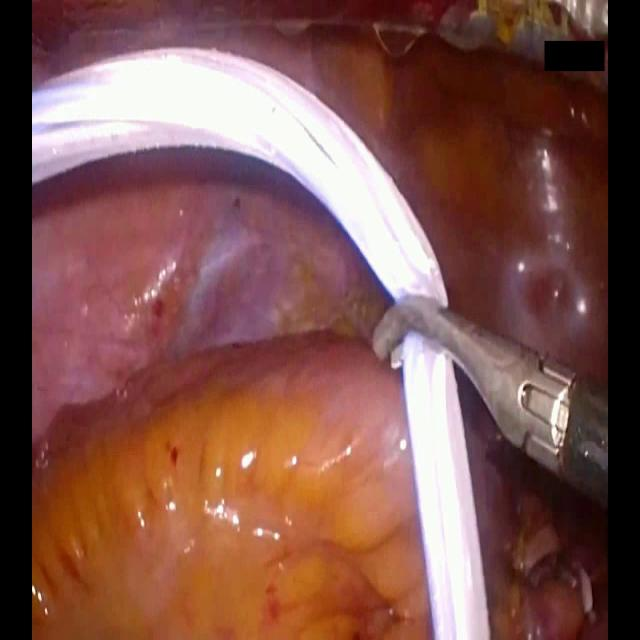surgical-area: (34, 1, 609, 639)
surgical-tool: (372, 292, 609, 511)
